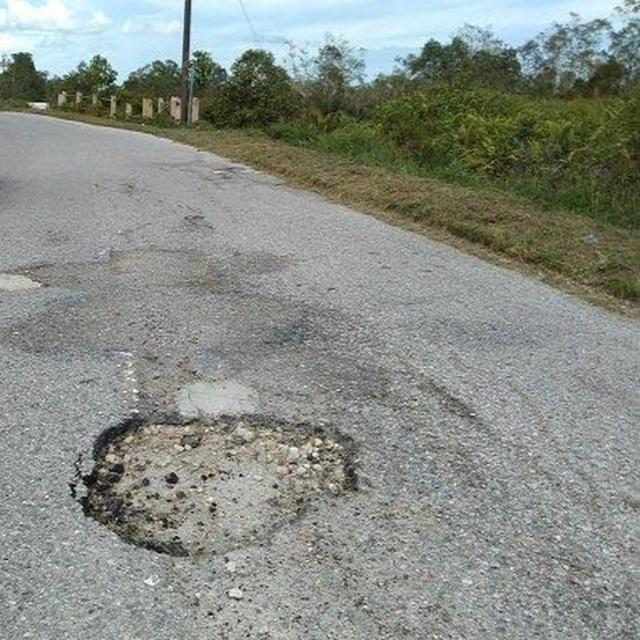Lubang: (84, 414, 356, 556)
